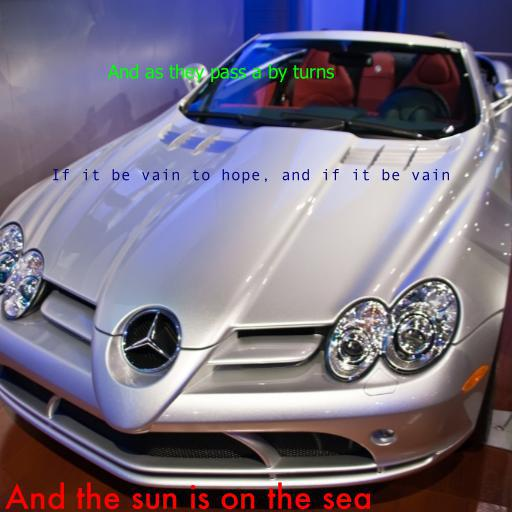Andale Mono: (51, 168, 451, 184)
Futura: (4, 482, 372, 510)
Tahoma: (108, 64, 334, 83)
